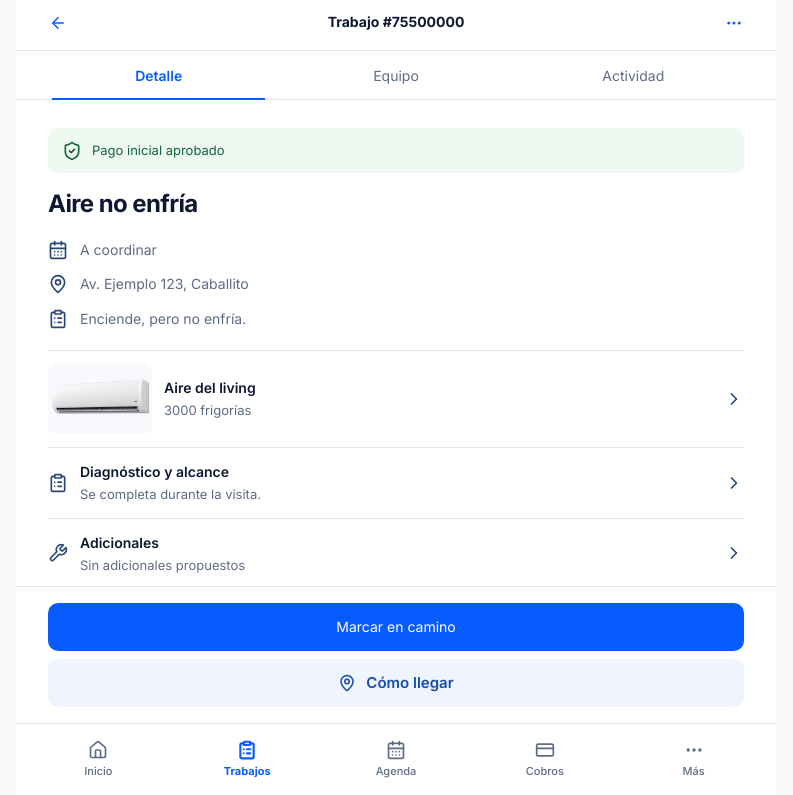
it: approved compact professional job workspace › starts a newly opened view at its heading rather than keeping the previous form scroll position
Expected: the heading "Aire no enfría" is shown, [48,189,198,218]
Click the tab "Equipo" at (396, 75), box [277,51,515,99]
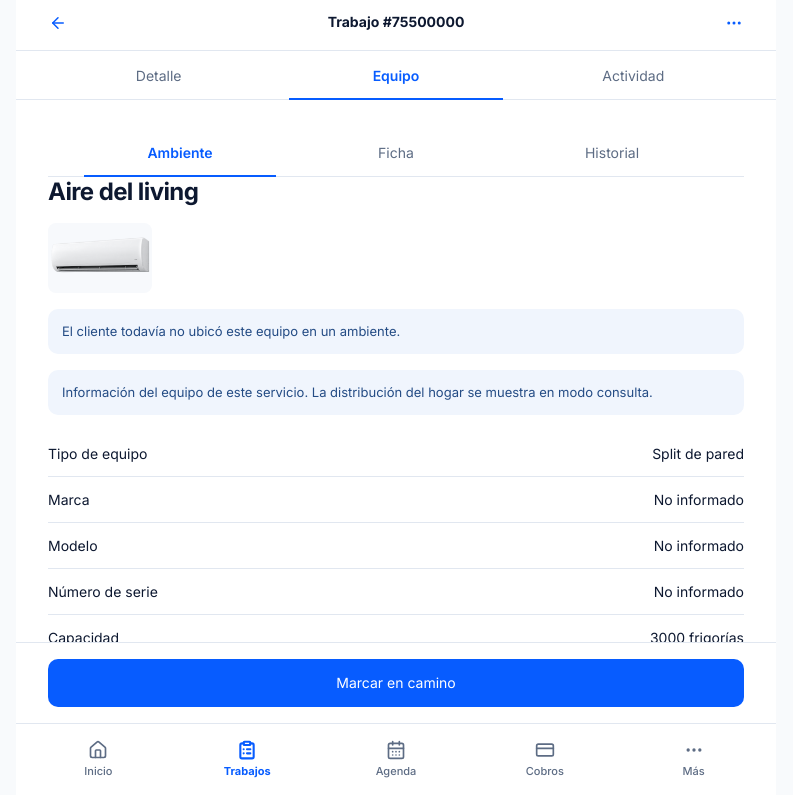
Expected: the heading "Aire del living" is shown, [48,177,198,206]
